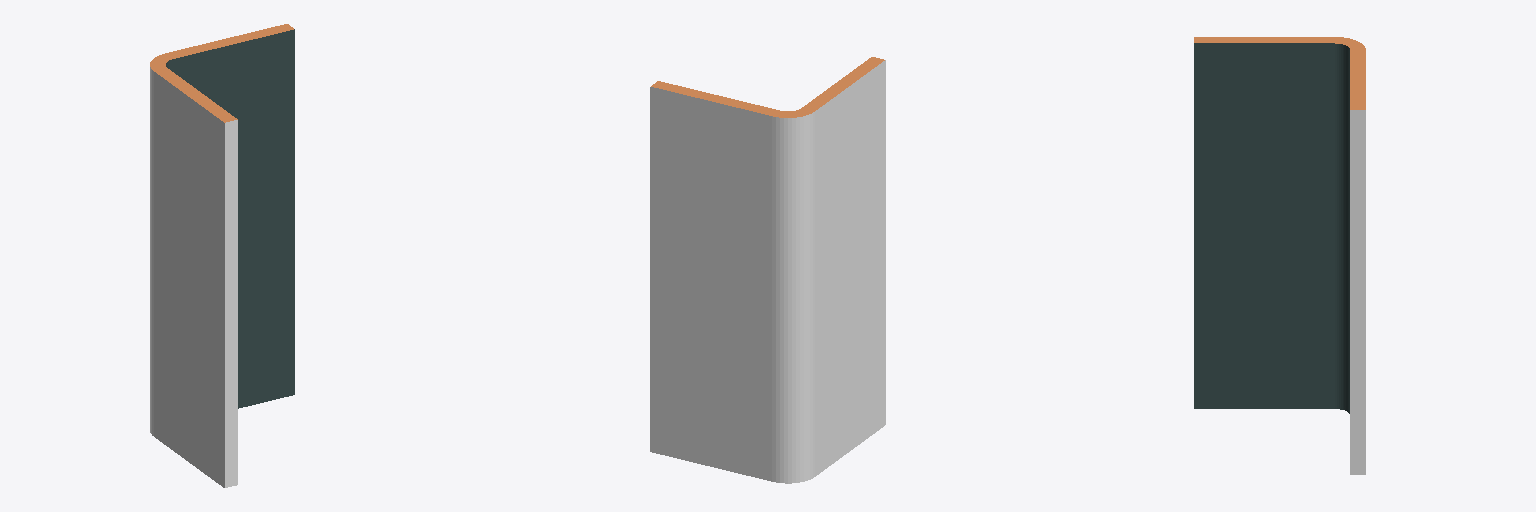
File: wallCornerRond.obj
3 renders of one model, left to right at view 1: azimuth 30°, elevation 25°; view 2: azimuth 150°, elevation 25°; view 3: azimuth 270°, elevation 25°, orthographic.
Visible parts, largest first — view 1: wallCornerRond; view 2: wallCornerRond; view 3: wallCornerRond.
Boxes of the visible parts, x1=… form: wallCornerRond: x1=150, y1=24, x2=294, y2=487; wallCornerRond: x1=650, y1=57, x2=885, y2=483; wallCornerRond: x1=1194, y1=37, x2=1365, y2=474.
Bounding box in the file's own units: 0.55 × 1.29 × 0.55.